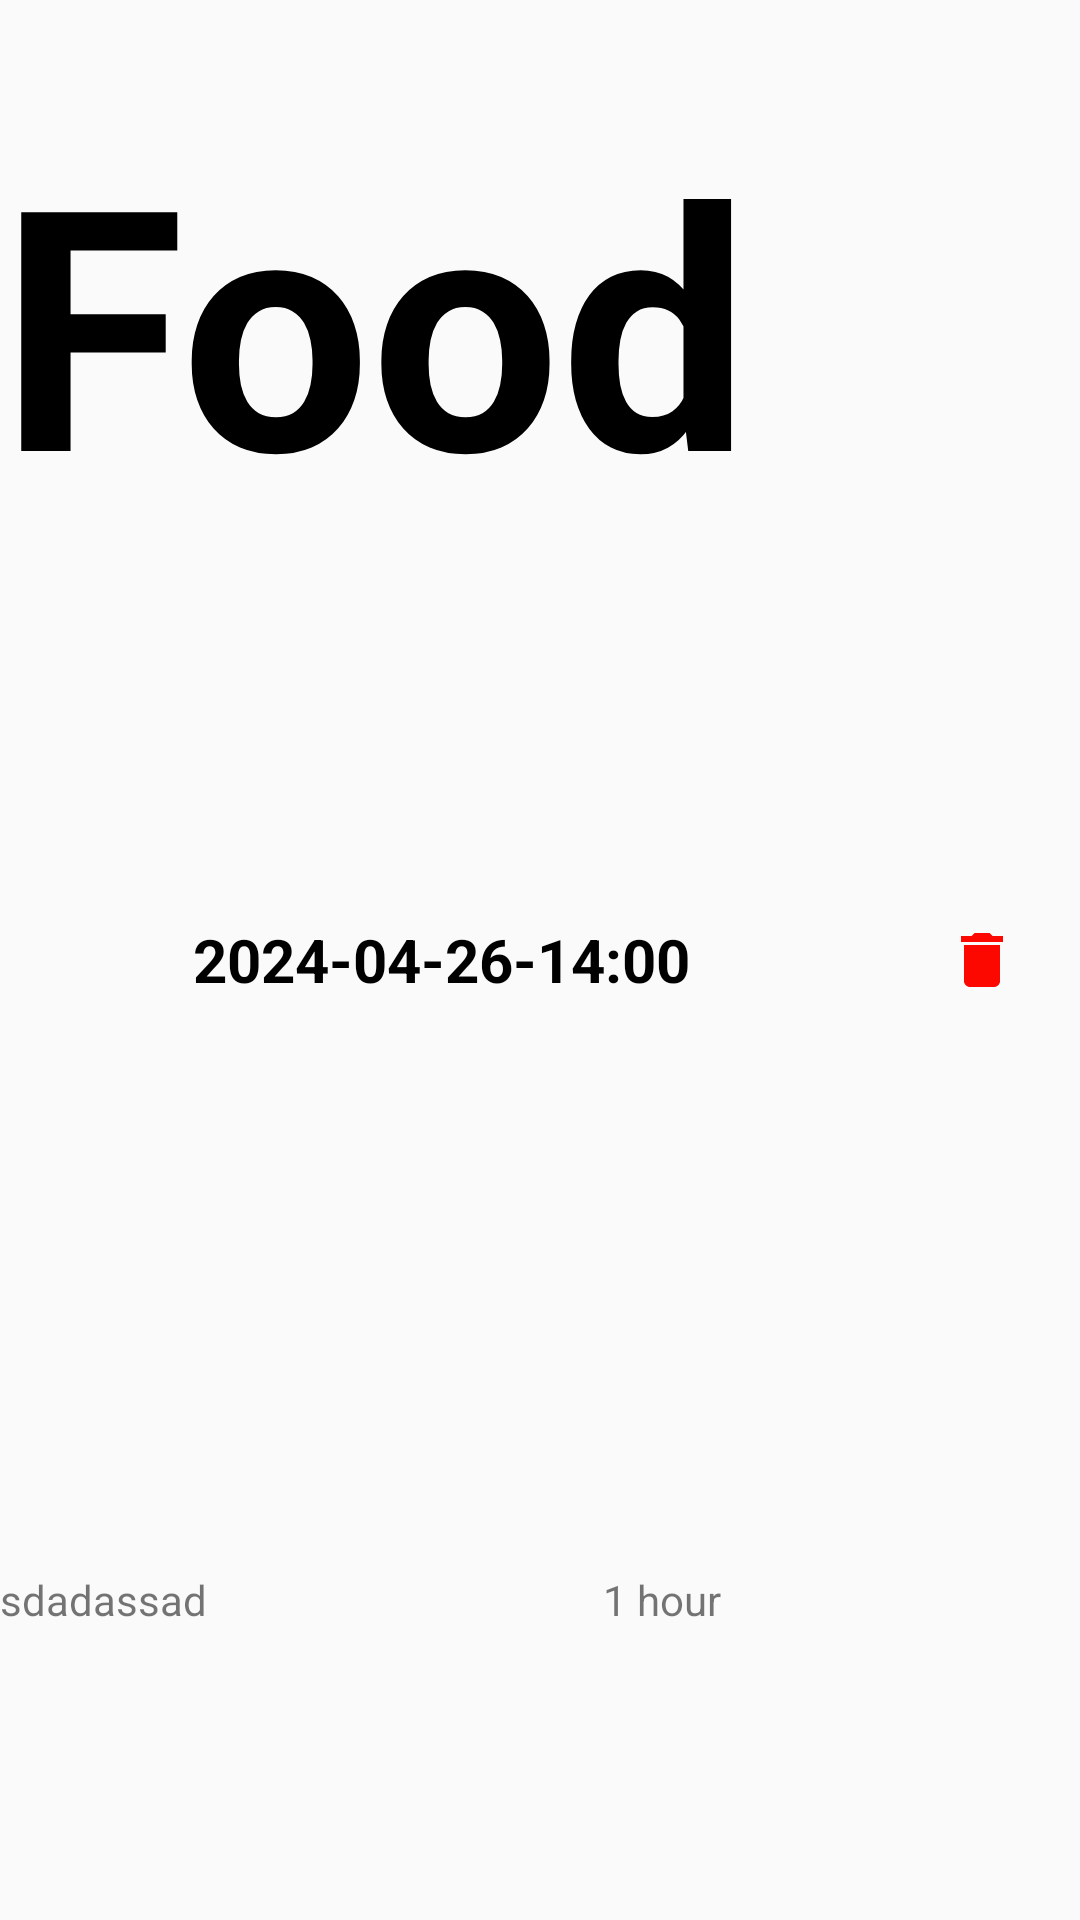

Icon click points for this 1080x1920 phone screenshot, format (x=x, y=y):
delete: (x=982, y=960)
